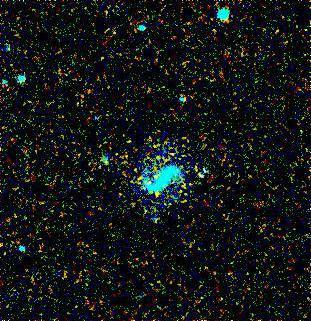star: (143, 180, 173, 210)
